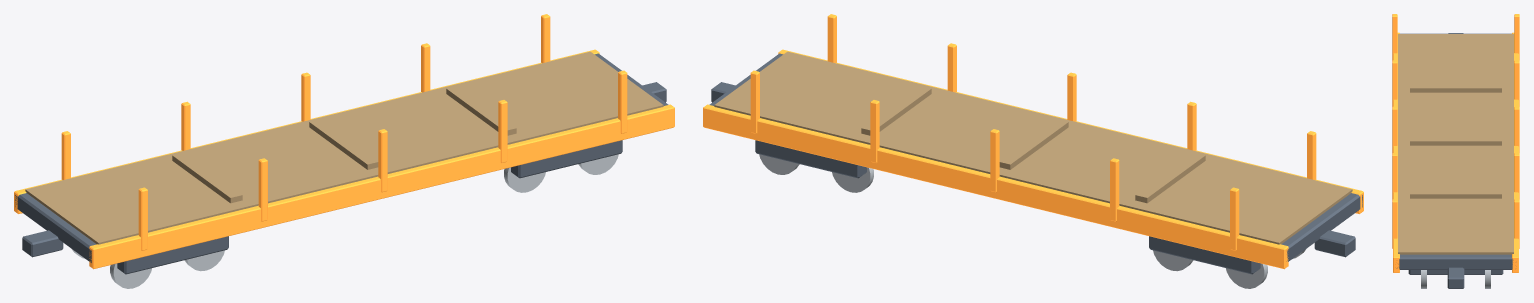
Rendered from rebar-wagon-empty-v5-medium.glb.
3 views of the same model, side by side, from view 1: azimuth 30°, elevation 25°; view 2: azimuth 150°, elevation 25°; view 3: azimuth 270°, elevation 25° (orthographic). The views are drawn at different scales.
Parts seen in each view (by area): view 1: rebar-wagon-empty-v5-high.glb-v5_timber_dunnage, rebar-wagon-empty-v5-high.glb-v5_crane_orange, rebar-wagon-empty-v5-high.glb-v5_heavy_gunmetal, rebar-wagon-empty-v5-high.glb-v5_bright_steel; view 2: rebar-wagon-empty-v5-high.glb-v5_timber_dunnage, rebar-wagon-empty-v5-high.glb-v5_crane_orange, rebar-wagon-empty-v5-high.glb-v5_heavy_gunmetal, rebar-wagon-empty-v5-high.glb-v5_bright_steel; view 3: rebar-wagon-empty-v5-high.glb-v5_timber_dunnage, rebar-wagon-empty-v5-high.glb-v5_crane_orange, rebar-wagon-empty-v5-high.glb-v5_heavy_gunmetal, rebar-wagon-empty-v5-high.glb-v5_bright_steel.
Boxes of the visible parts, bbox=[...] form: rebar-wagon-empty-v5-high.glb-v5_timber_dunnage: bbox=[25, 51, 663, 244]; rebar-wagon-empty-v5-high.glb-v5_crane_orange: bbox=[14, 14, 674, 269]; rebar-wagon-empty-v5-high.glb-v5_heavy_gunmetal: bbox=[15, 53, 668, 274]; rebar-wagon-empty-v5-high.glb-v5_bright_steel: bbox=[72, 154, 618, 288]; rebar-wagon-empty-v5-high.glb-v5_timber_dunnage: bbox=[714, 51, 1352, 244]; rebar-wagon-empty-v5-high.glb-v5_crane_orange: bbox=[703, 14, 1363, 269]; rebar-wagon-empty-v5-high.glb-v5_heavy_gunmetal: bbox=[709, 53, 1362, 274]; rebar-wagon-empty-v5-high.glb-v5_bright_steel: bbox=[759, 154, 1305, 288]; rebar-wagon-empty-v5-high.glb-v5_timber_dunnage: bbox=[1398, 34, 1513, 254]; rebar-wagon-empty-v5-high.glb-v5_crane_orange: bbox=[1392, 14, 1519, 272]; rebar-wagon-empty-v5-high.glb-v5_heavy_gunmetal: bbox=[1396, 33, 1513, 288]; rebar-wagon-empty-v5-high.glb-v5_bright_steel: bbox=[1421, 270, 1490, 288].
Size of the model in its own units: 14.85 by 2.53 by 3.26.
